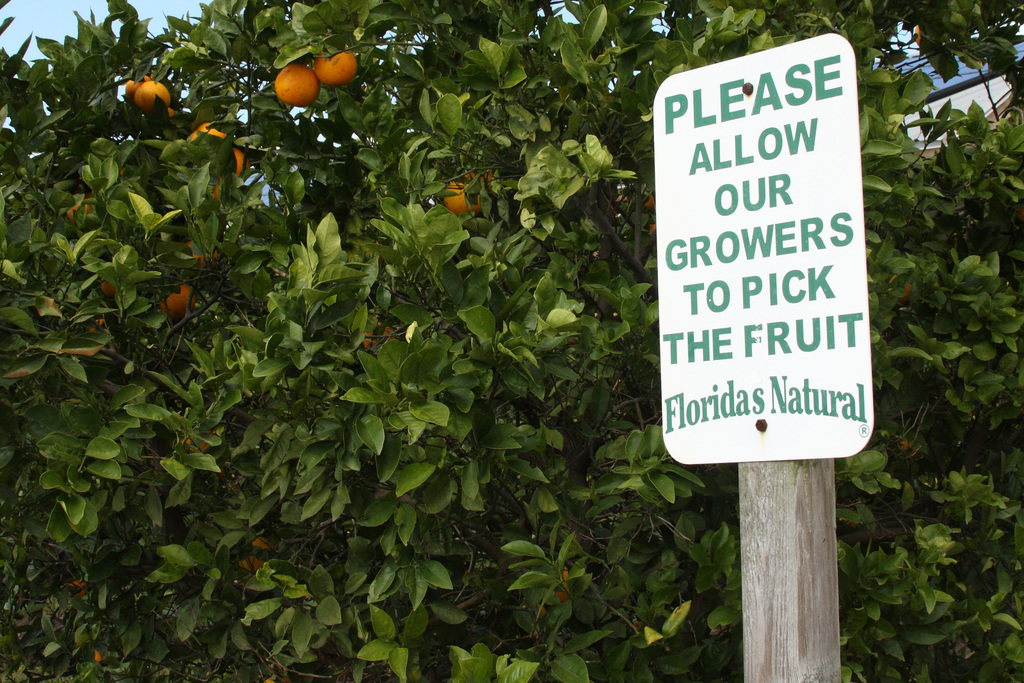Ripe: (269, 63, 320, 105)
